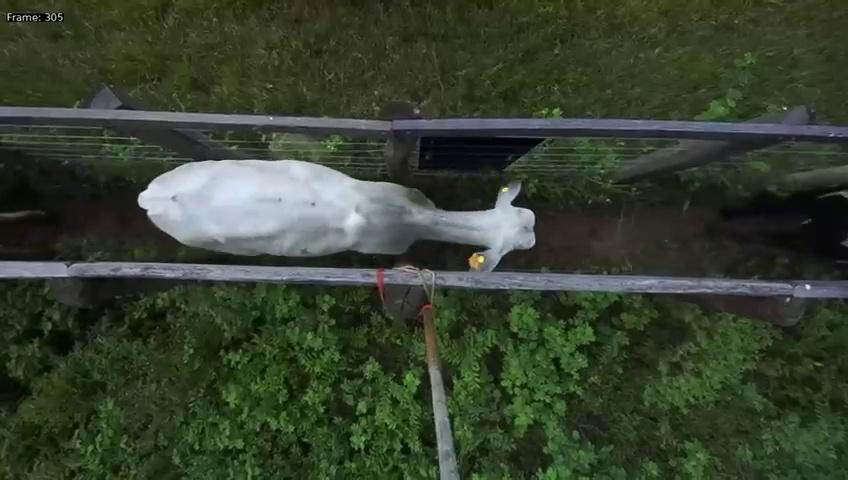cattle: (137, 125, 537, 271)
